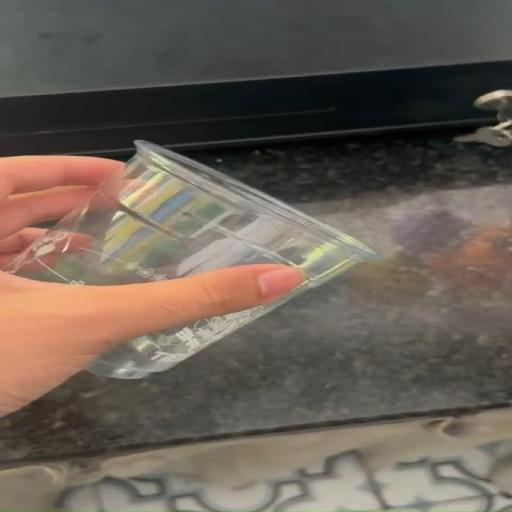ly_giay: (5, 140, 377, 378)
